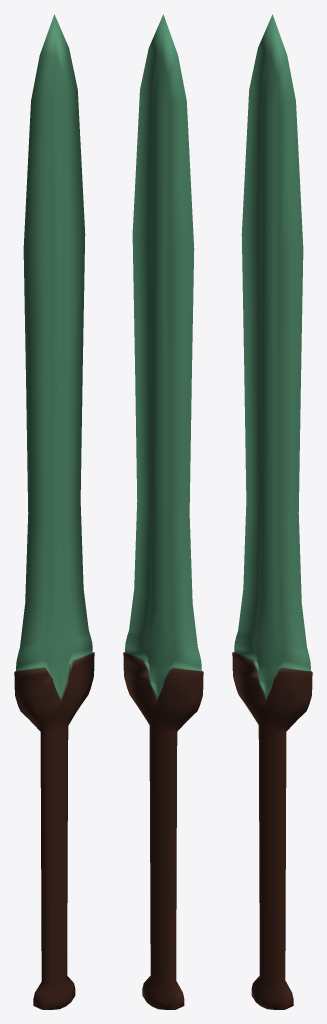
Rendered from Leaf Sword_001.fbx.
3 renders of one model, left to right at view 1: azimuth 30°, elevation 25°; view 2: azimuth 150°, elevation 25°; view 3: azimuth 330°, elevation 25°, orthographic.
Visible parts, largest first — view 1: Leaf_Sword; view 2: Leaf_Sword; view 3: Leaf_Sword.
Part boxes in pixels (x1,y1,x2,y2): Leaf_Sword: (14,14,94,1009); Leaf_Sword: (123,14,203,1009); Leaf_Sword: (232,14,312,1009).
Bounding box in the file's own units: 41.99 × 499 × 13.04.
